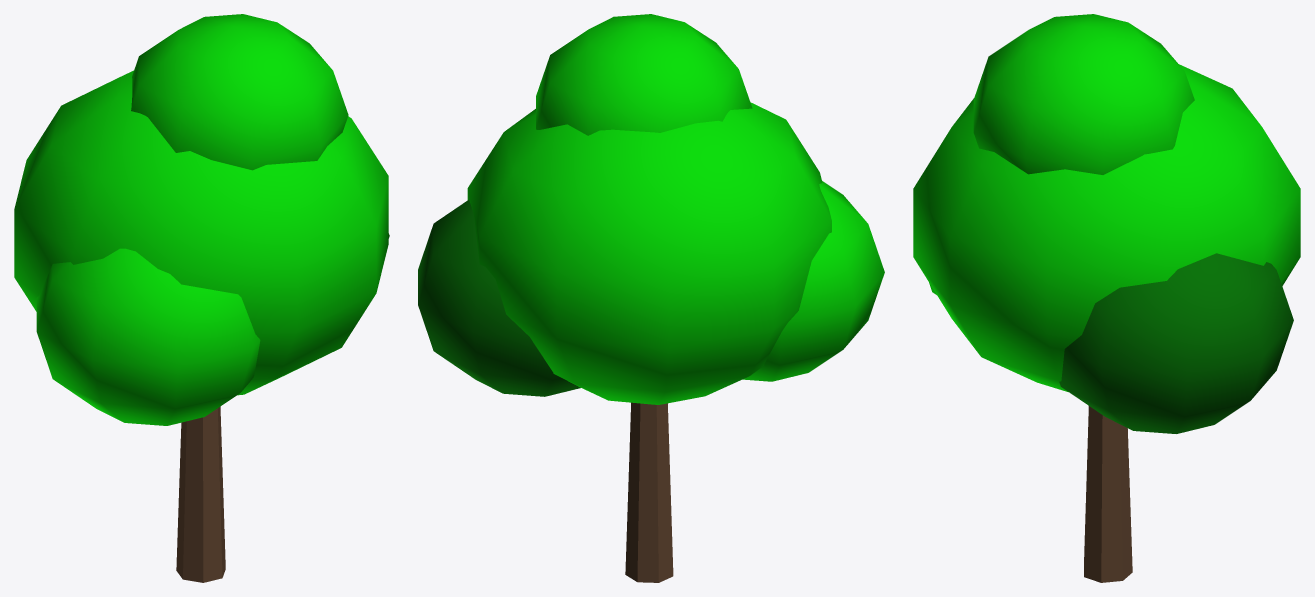
The model's file is Tree_Round.fbx.
3 views of the same model, side by side, from view 1: azimuth 30°, elevation 25°; view 2: azimuth 150°, elevation 25°; view 3: azimuth 270°, elevation 25° (orthographic). The views are drawn at different scales.
Visible parts, largest first — view 1: Tree_Round; view 2: Tree_Round; view 3: Tree_Round.
Part boxes in pixels (left/top/right/bottom): Tree_Round: left=14, top=14, right=389, bottom=582; Tree_Round: left=418, top=14, right=884, bottom=582; Tree_Round: left=913, top=14, right=1300, bottom=582.
Bounding box in the file's own units: 3.87 × 5.25 × 3.31.
